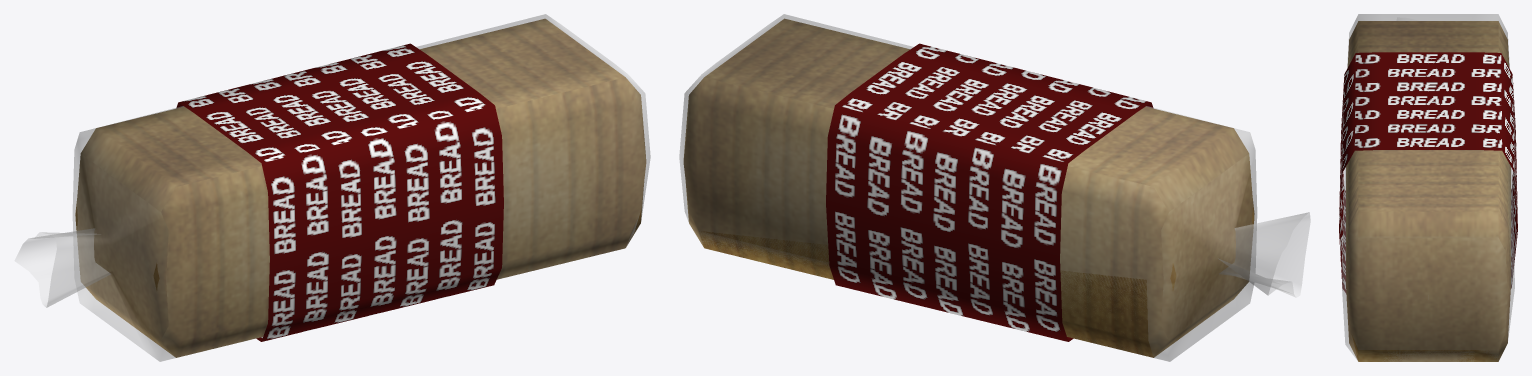
Rendered from Bread.fbx.
The picture shows the model from 3 angles, left to right: view 1: azimuth 30°, elevation 25°; view 2: azimuth 150°, elevation 25°; view 3: azimuth 270°, elevation 25°; orthographic projection. The views are drawn at different scales.
Parts seen in each view (by area): view 1: BreadWrap, Bread, BreadLabel; view 2: Bread, BreadWrap, BreadLabel; view 3: BreadWrap, Bread, BreadLabel.
Part boxes in pixels (box(x1,y1,x2,y2)): BreadWrap: box(15, 14, 650, 361); Bread: box(75, 18, 646, 357); BreadLabel: box(176, 43, 503, 341); Bread: box(683, 18, 1254, 357); BreadWrap: box(679, 14, 1310, 361); BreadLabel: box(826, 43, 1153, 341); BreadWrap: box(1342, 14, 1514, 361); Bread: box(1346, 21, 1510, 361); BreadLabel: box(1339, 52, 1517, 292).
Size of the model in its own units: 70 by 21.32 by 21.71.
